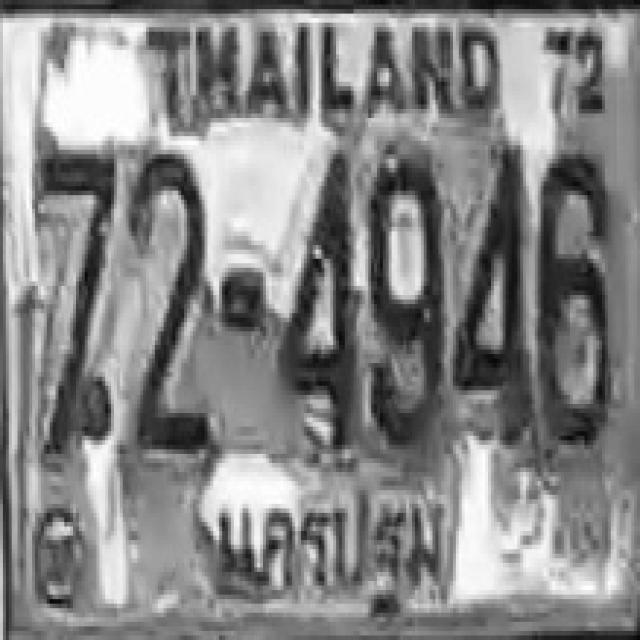2: (126, 152, 213, 465), (126, 150, 210, 445)
4: (274, 148, 356, 447), (453, 139, 532, 447)
6: (536, 148, 612, 447)
9: (365, 150, 444, 449)
NakhonPathom: (198, 479, 448, 616)
